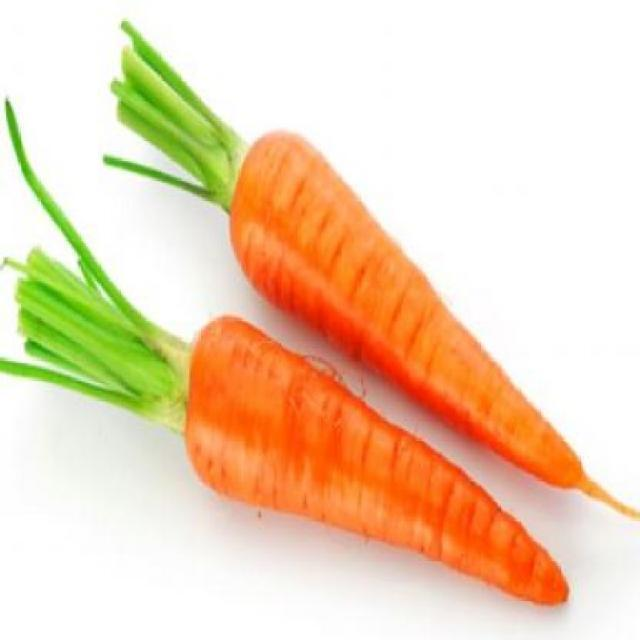carrot: (226, 123, 608, 504), (184, 307, 576, 616)
